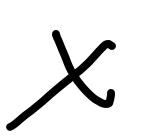mult: (10, 28, 116, 131)
